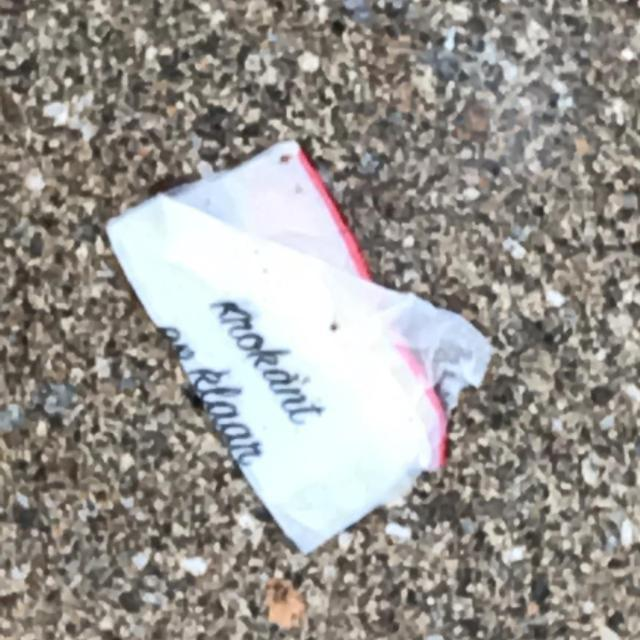Paper: (101, 136, 496, 562)
